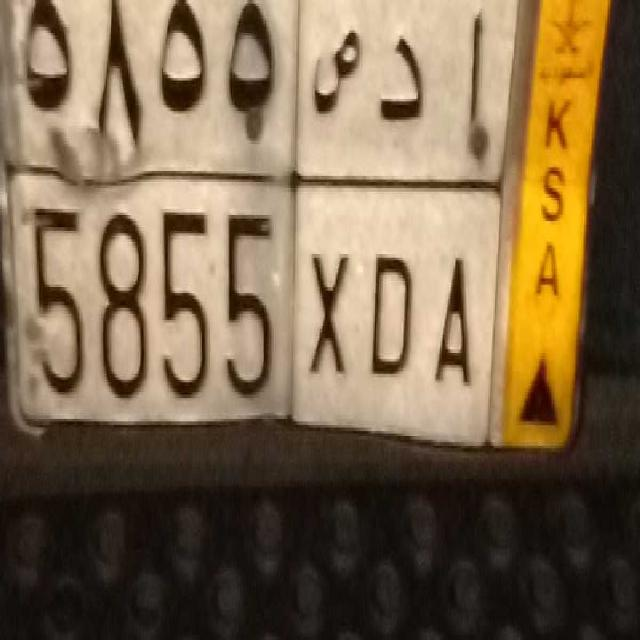license_plate: (10, 165, 492, 452)
